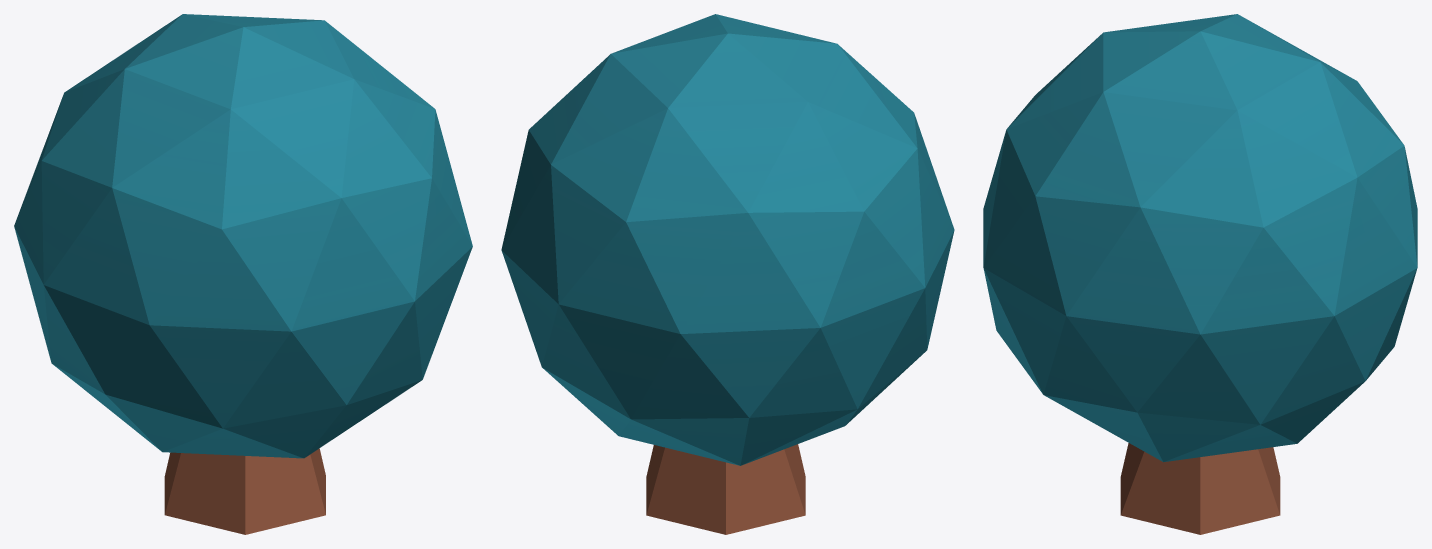
File: Bush_2_gradient_blue.fbx
3 views of the same model, side by side, from view 1: azimuth 30°, elevation 25°; view 2: azimuth 150°, elevation 25°; view 3: azimuth 270°, elevation 25° (orthographic).
Visible parts, largest first — view 1: Bush_2_gradient_blue; view 2: Bush_2_gradient_blue; view 3: Bush_2_gradient_blue.
Boxes of the visible parts, left/top/right/bottom form: Bush_2_gradient_blue: left=14, top=14, right=472, bottom=534; Bush_2_gradient_blue: left=501, top=14, right=954, bottom=534; Bush_2_gradient_blue: left=983, top=14, right=1417, bottom=534.
Size of the model in its own units: 35.19 by 39.46 by 33.47.
